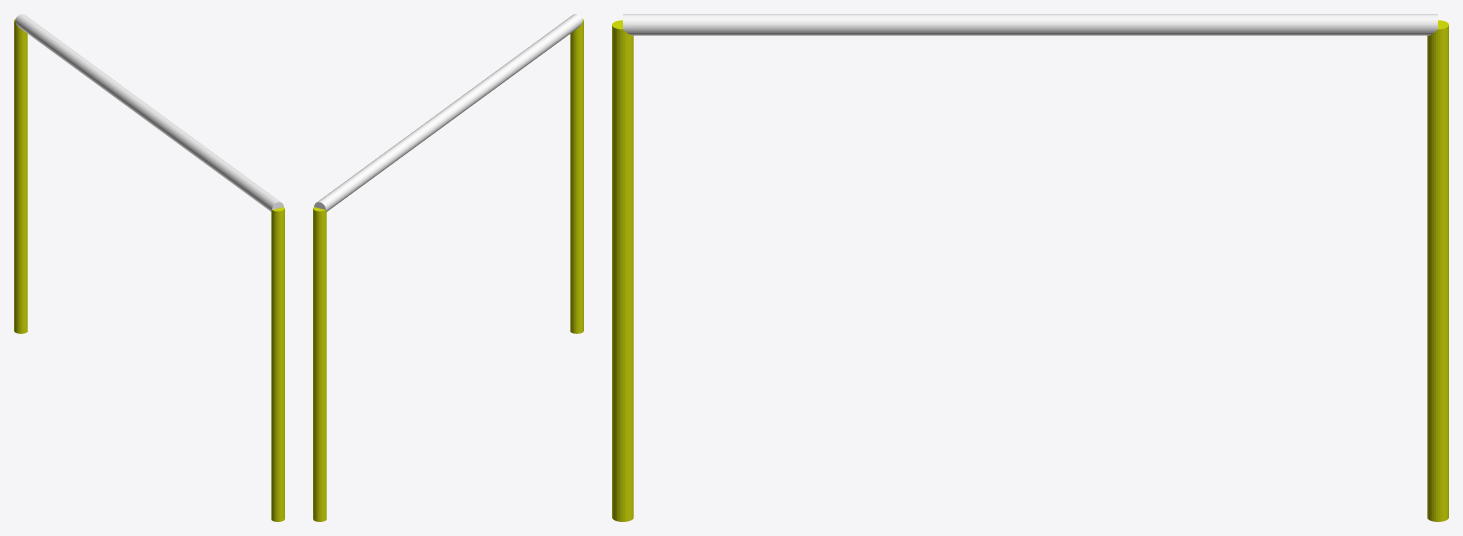
File: qualification_gate.dae
The picture shows the model from 3 angles, left to right: view 1: azimuth 30°, elevation 25°; view 2: azimuth 150°, elevation 25°; view 3: azimuth 270°, elevation 25°; orthographic projection. The views are drawn at different scales.
Visible parts, largest first — view 1: Cylinder.002, Cylinder.003, Cylinder.005; view 2: Cylinder.002, Cylinder.005, Cylinder.003; view 3: Cylinder.002, Cylinder.005, Cylinder.003.
Boxes of the visible parts, x1,y1,x2,y2 form: Cylinder.002: [15, 14, 283, 211]; Cylinder.003: [271, 207, 284, 521]; Cylinder.005: [14, 18, 27, 333]; Cylinder.002: [314, 14, 582, 211]; Cylinder.005: [313, 207, 326, 521]; Cylinder.003: [570, 18, 583, 333]; Cylinder.002: [623, 14, 1437, 35]; Cylinder.005: [1427, 20, 1448, 521]; Cylinder.003: [612, 20, 633, 521].
Bounding box in the file's own units: 0.04 × 1.54 × 1.02.
